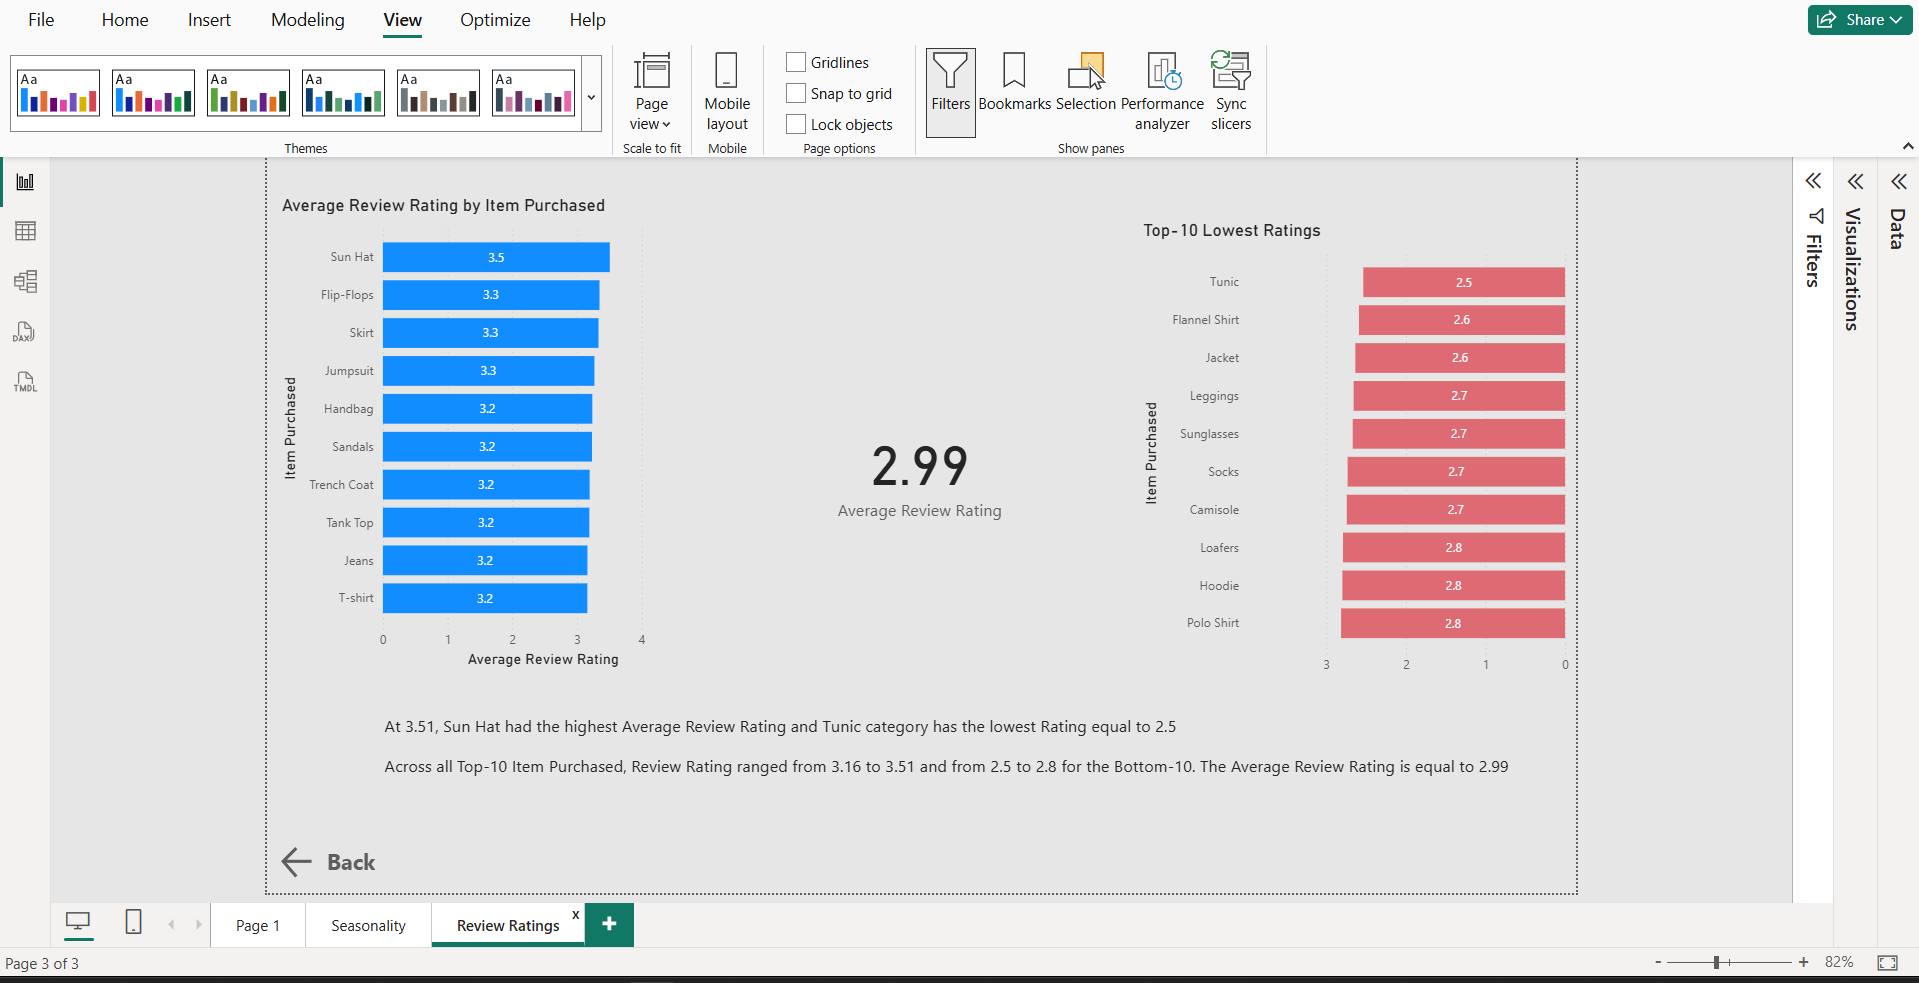

The page's visual inventory and layout, read from the dashboard file:
{"tool":"powerbi","page":{"name":"Review Ratings","canvas":[1280,720],"ordinal":2},"visuals":[{"type":"barChart","fields":{"Category":["in.Item Purchased"],"Y":["in.Average Review Rating"]},"box":[9.6,37,426.8,467.9],"z":0},{"type":"barChart","title":"Top-10 Lowest Ratings","fields":{"Category":["in.Item Purchased"],"Y":["in.Average Review Rating"]},"box":[852.1,61.7,426.8,467.9],"z":1000},{"type":"card","fields":{"Values":["in.Average Review Rating"]},"box":[425.4,211.3,426.8,189.4],"z":2000},{"type":"actionButton","box":[9.6,669.6,100.2,39.8],"z":3000},{"type":"textbox","box":[109.8,505,1143.1,145.5],"z":4000}]}

Visuals, with their boxes on the page's 1280x720 design canvas (x1, y1, x2, y2). These are canvas units, not pixel positions in the 1919x983 screenshot, which may show the page scaled, cropped or inside an application window:
barChart - in.Item Purchased x in.Average Review Rating: <region>10, 37, 436, 505</region>
"Top-10 Lowest Ratings" barChart: <region>852, 62, 1279, 530</region>
card - in.Average Review Rating: <region>425, 211, 852, 401</region>
actionButton: <region>10, 670, 110, 709</region>
textbox: <region>110, 505, 1253, 650</region>
